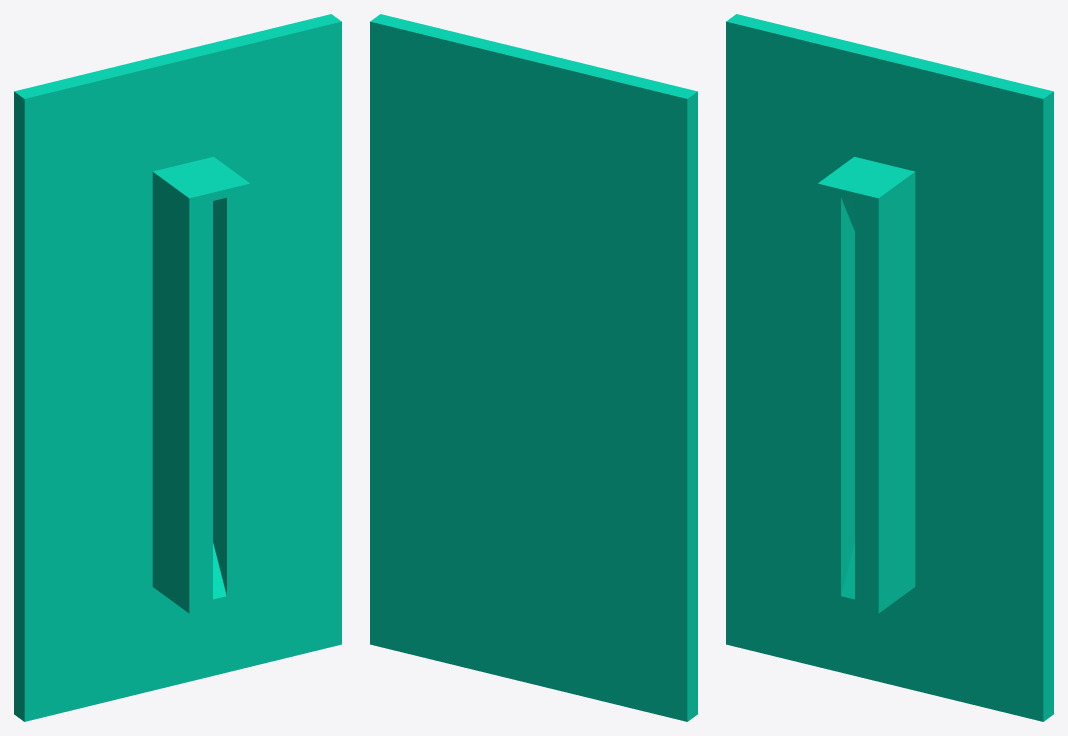
File: valve.glb
3 views of the same model, side by side, from view 1: azimuth 30°, elevation 25°; view 2: azimuth 150°, elevation 25°; view 3: azimuth 330°, elevation 25° (orthographic).
Parts seen in each view (by area): view 1: Node1; view 2: Node1; view 3: Node1.
Boxes of the visible parts, x1,y1,x2,y2 form: Node1: [14, 14, 341, 721]; Node1: [370, 14, 697, 721]; Node1: [726, 14, 1053, 721].
Bounding box in the file's own units: 6.35 × 11.91 × 1.63.
